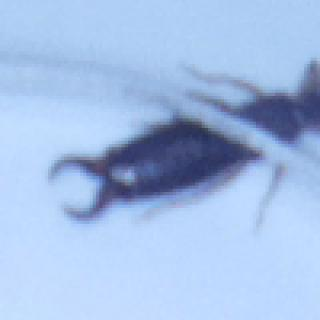earwig: (41, 54, 320, 233)
